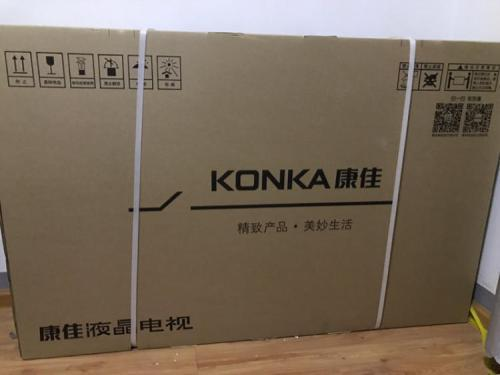cardboard: (0, 21, 500, 360)
